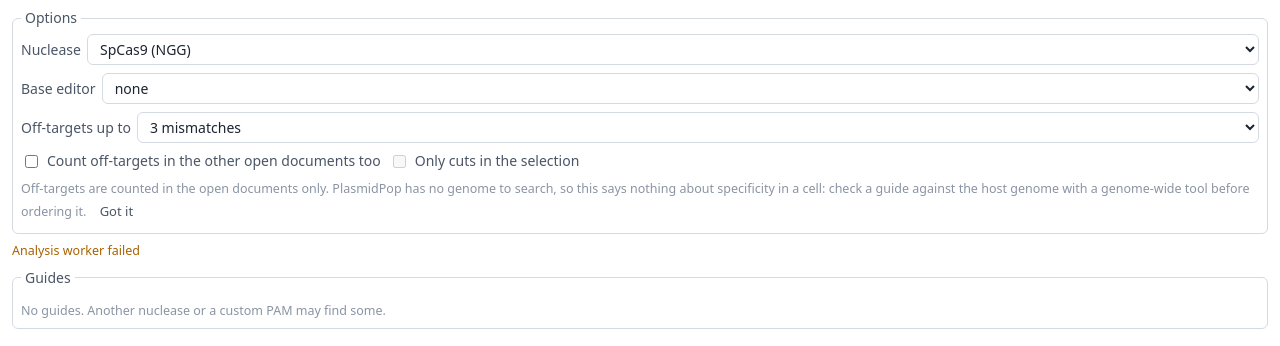
Test: CrisprPanel › says plainly that it has no genome to search, once, then as a tooltip
The image size is (1280, 346).
expect the text "no genome to search" is shown: met, box [21,180,1250,220]
Step 1. Click the button "Got it" → {"x": 116, "y": 211}, box [90,198,143,224]
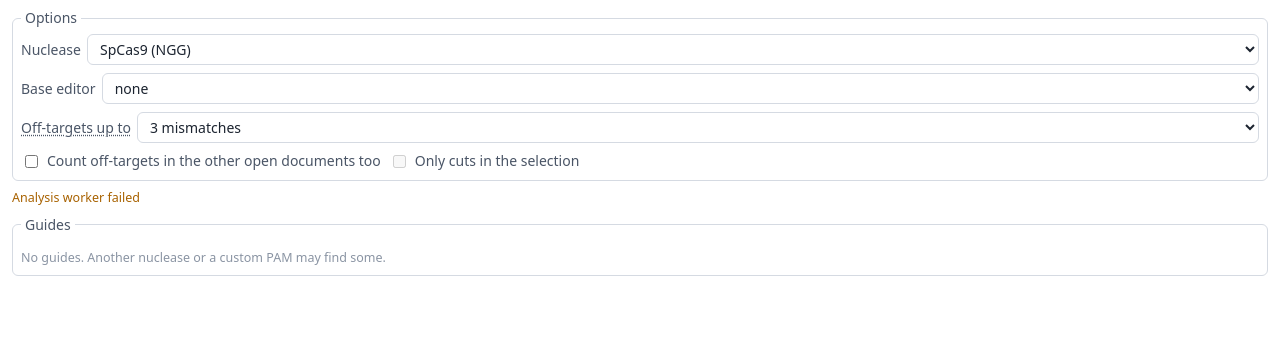
expect the text "Off-targets up to" is shown: met, box [21,118,131,138]
expect the text "no genome to search" is gone: met
